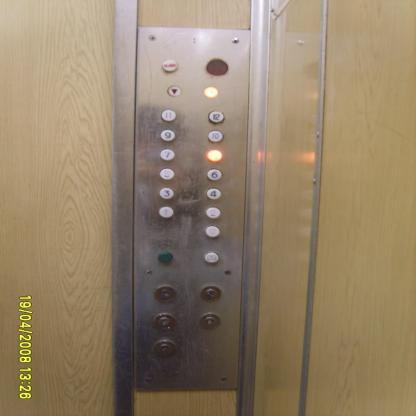0: (204, 224, 222, 238)
1: (157, 204, 174, 219)
10: (207, 129, 224, 143)
11: (159, 108, 178, 122)
12: (207, 109, 226, 124)
2: (203, 205, 221, 219)
3: (157, 186, 176, 200)
4: (204, 186, 223, 200)
5: (158, 166, 176, 180)
6: (205, 168, 224, 182)
7: (158, 148, 176, 162)
9: (160, 129, 176, 142)
DC: (202, 250, 220, 264)
down: (165, 84, 183, 97)
empty: (204, 57, 230, 77), (205, 148, 224, 163), (157, 251, 174, 263)
keyhole: (152, 284, 177, 303), (152, 311, 177, 330), (197, 311, 222, 330), (152, 338, 177, 357), (199, 285, 223, 302)
text_alarm bell: (160, 58, 179, 74)
up: (202, 85, 219, 99)
